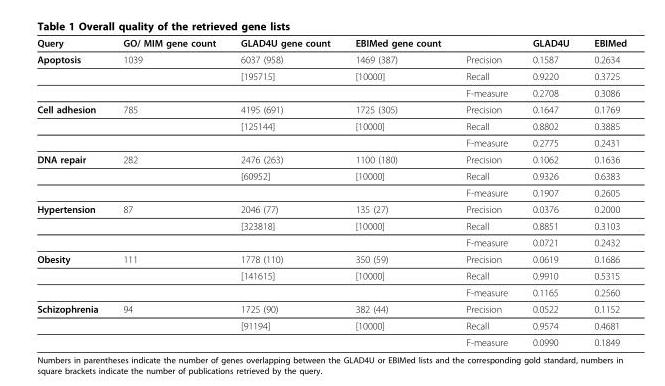table: (36, 36, 626, 347)
table column: (110, 36, 227, 347), (227, 36, 342, 347), (342, 36, 452, 347), (36, 36, 110, 347), (452, 36, 519, 347), (519, 36, 581, 347), (581, 36, 626, 347)
table column header: (36, 36, 626, 50)
table row: (36, 50, 626, 67), (36, 67, 626, 84), (36, 100, 626, 117), (36, 117, 626, 134), (36, 150, 626, 167), (36, 183, 626, 200), (36, 200, 626, 217), (36, 233, 626, 250), (36, 250, 626, 267), (36, 283, 626, 300), (36, 300, 626, 317), (36, 84, 626, 100), (36, 134, 626, 150), (36, 167, 626, 183), (36, 217, 626, 233), (36, 267, 626, 283), (36, 317, 626, 333), (36, 36, 626, 50), (36, 333, 626, 347)
table spanning cell: (36, 50, 110, 100), (36, 100, 110, 150), (36, 150, 110, 200), (36, 200, 110, 250), (36, 250, 110, 300), (36, 300, 110, 347)
